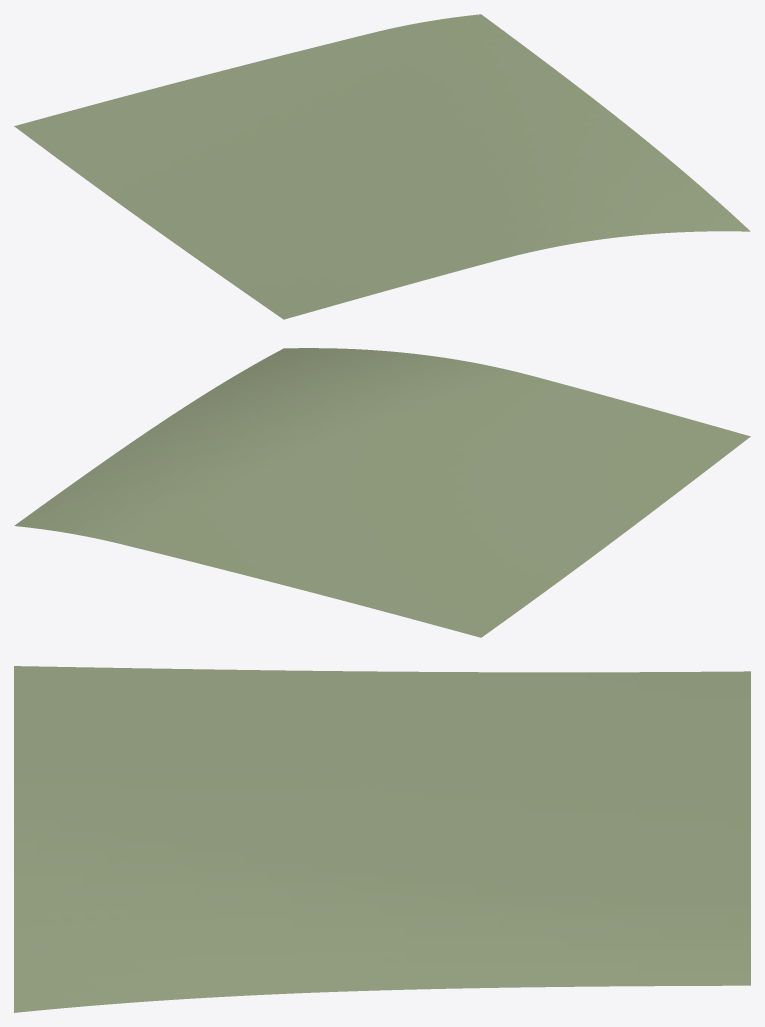
File: expanse-22-6.glb
3 views of the same model, one above another, from view 1: azimuth 30°, elevation 25°; view 2: azimuth 150°, elevation 25°; view 3: azimuth 270°, elevation 25° (orthographic). The views are drawn at different scales.
Visible parts, largest first — view 1: expanse-22-6; view 2: expanse-22-6; view 3: expanse-22-6.
Boxes of the visible parts, left/top/right/bottom form: expanse-22-6: left=14, top=14, right=750, bottom=319; expanse-22-6: left=14, top=348, right=750, bottom=637; expanse-22-6: left=14, top=666, right=750, bottom=1012.
Bounding box in the file's own units: 256 × 17.45 × 256.
